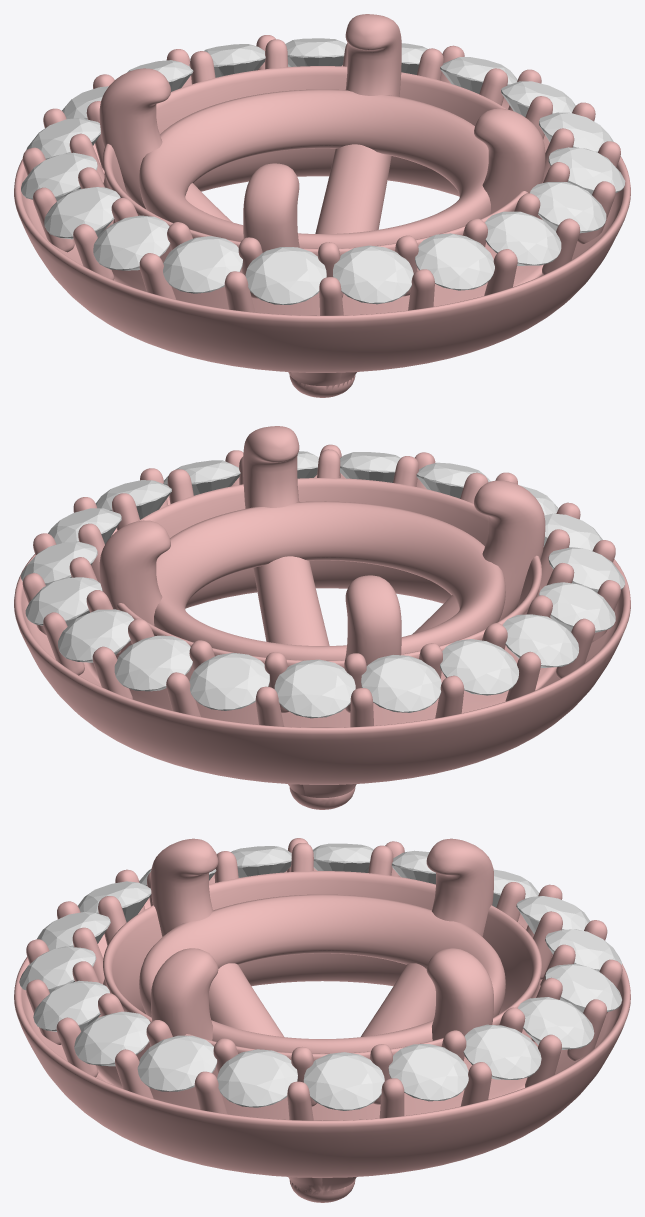
Rendered from SINGLE-HALO.glb.
The picture shows the model from 3 angles, top to bottom: view 1: azimuth 30°, elevation 25°; view 2: azimuth 150°, elevation 25°; view 3: azimuth 270°, elevation 25°; orthographic projection.
Visible parts, largest first — view 1: metal, 4 prong, diamond; view 2: metal, 4 prong, diamond; view 3: metal, 4 prong, diamond.
Boxes of the visible parts, x1,y1,x2,y2 form: metal: [14, 35, 630, 372]; 4 prong: [99, 14, 545, 397]; diamond: [21, 38, 625, 304]; metal: [14, 444, 630, 784]; 4 prong: [99, 426, 545, 809]; diamond: [21, 451, 625, 718]; metal: [14, 838, 630, 1177]; 4 prong: [139, 838, 505, 1202]; diamond: [19, 843, 621, 1110].
Size of the model in its own units: 8.35 by 4.48 by 8.35.
